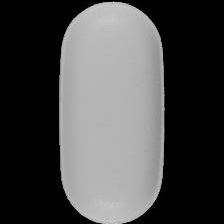76237-182: (0, 0, 224, 224)
